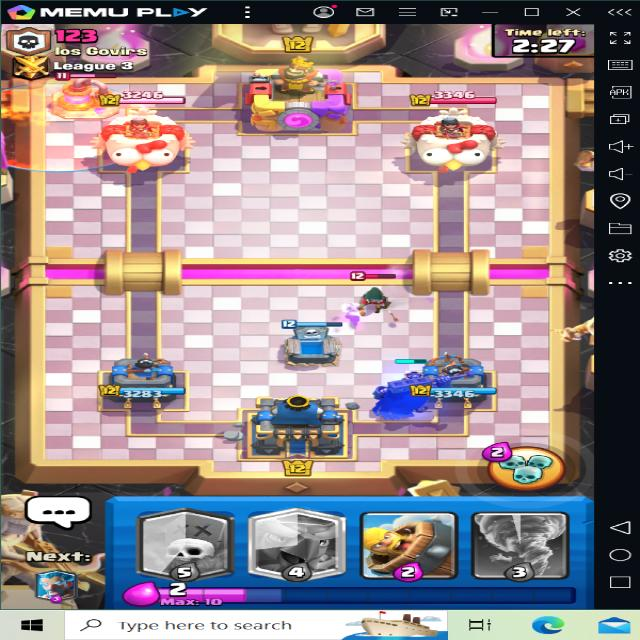bandit: (328, 278, 411, 325)
elixir-collector: (55, 72, 115, 123)
